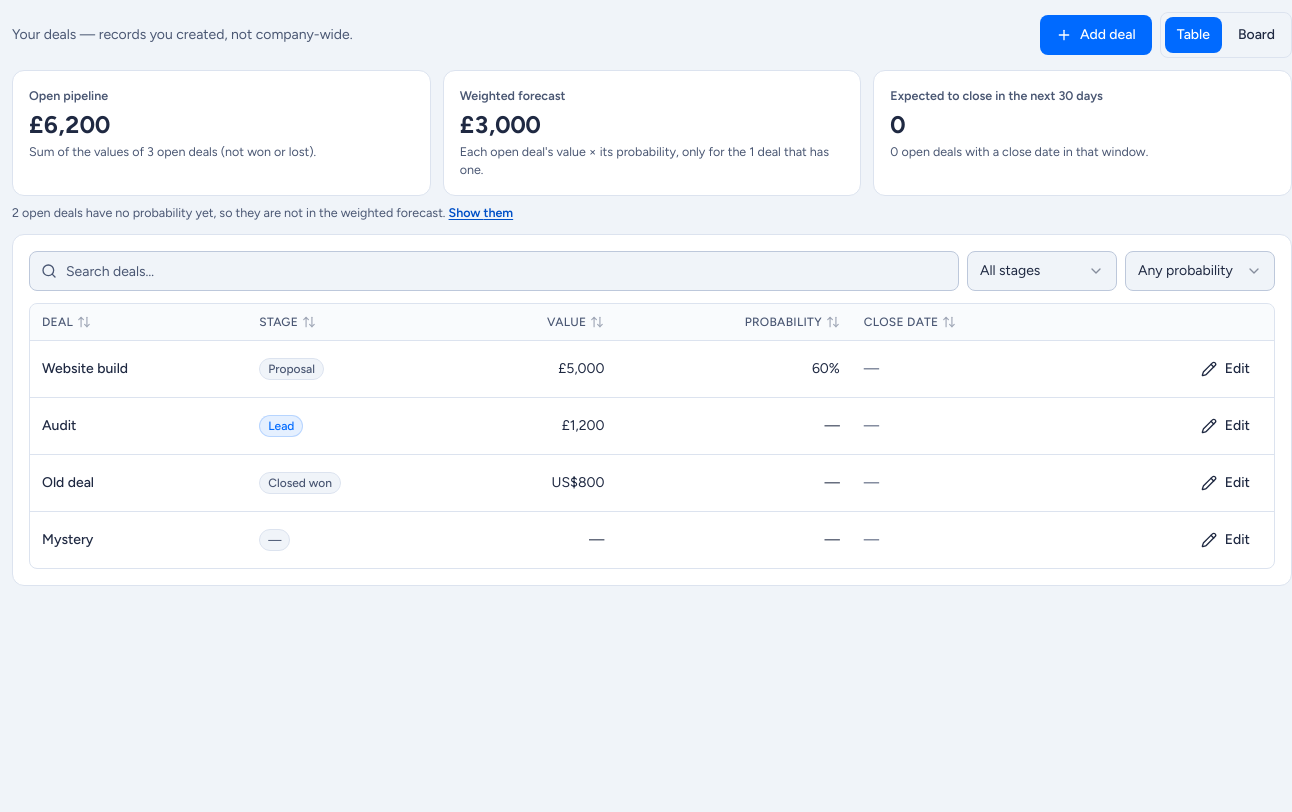
Test: DealsView board › summary: open pipeline and weighted forecast per currency, and a link to deals with no probability
This screenshot has width=1292, height=812.
Expected: the text "£6,200" is shown, x1=29 y1=110 x2=110 y2=139
Expected: the text "£3,000" is shown, x1=460 y1=110 x2=541 y2=139
Click the button "Show them". click: coordinates (481, 213)
box: x1=449 y1=204 x2=513 y2=222
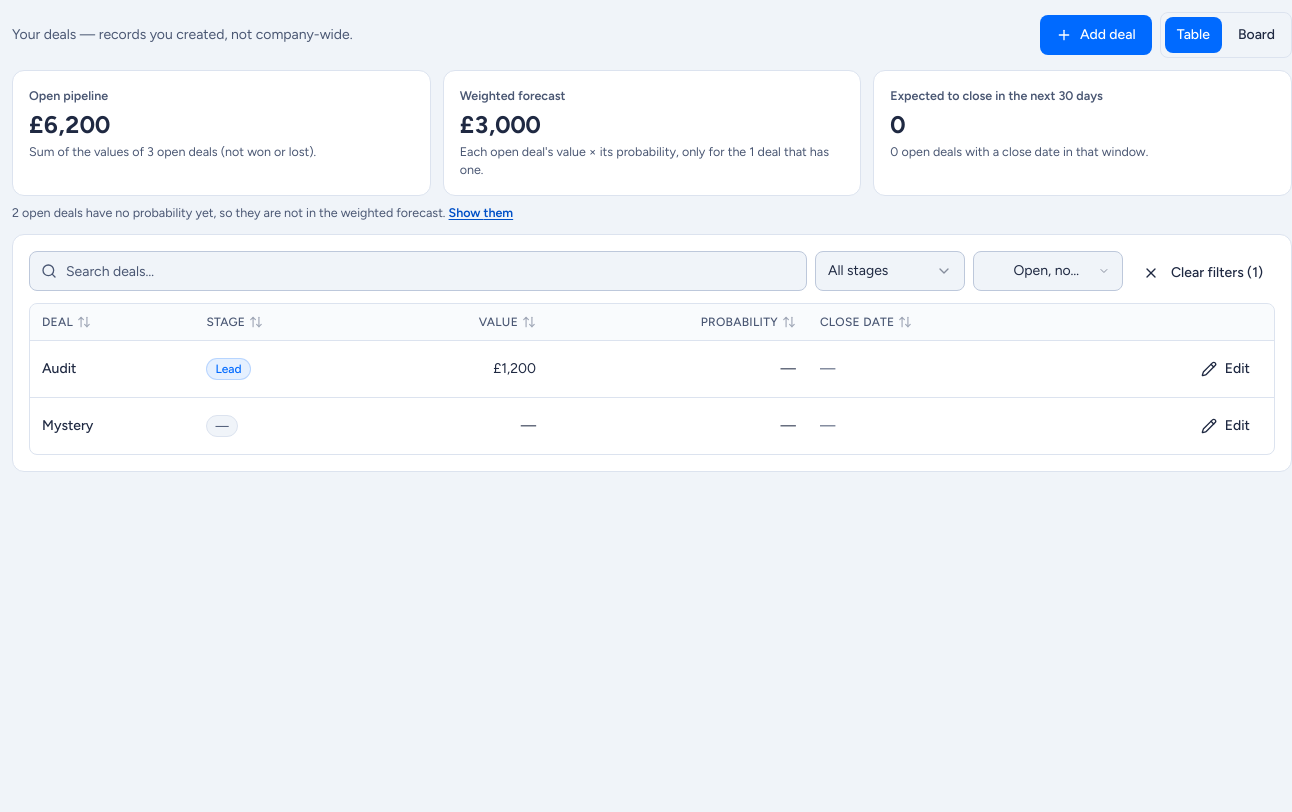
Expected: the text "Audit" is shown, x1=42 y1=360 x2=76 y2=377
Expected: the text "Website build" is gone
